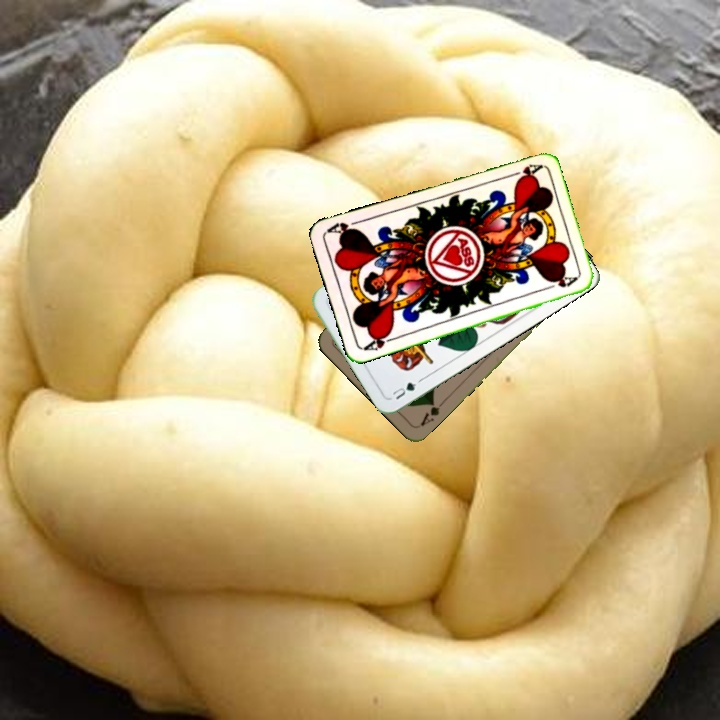GA: (416, 396, 447, 429)
GU: (388, 378, 419, 402)
HA: (360, 328, 399, 353), (504, 160, 544, 182)
